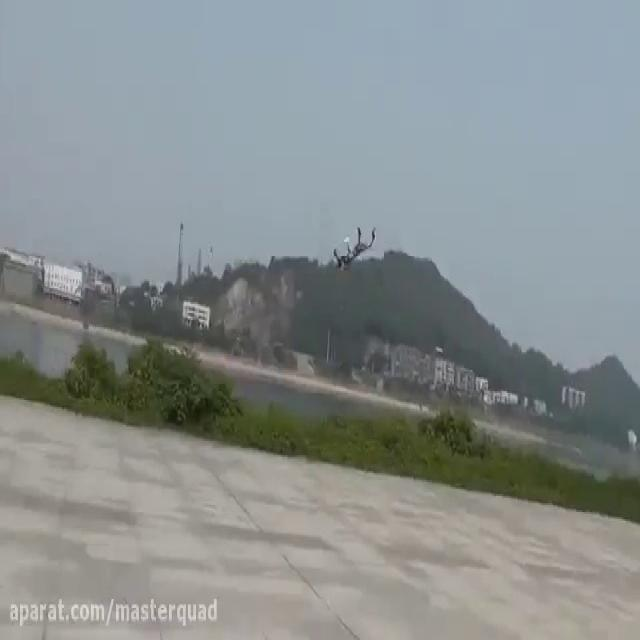drone: (328, 215, 380, 270)
